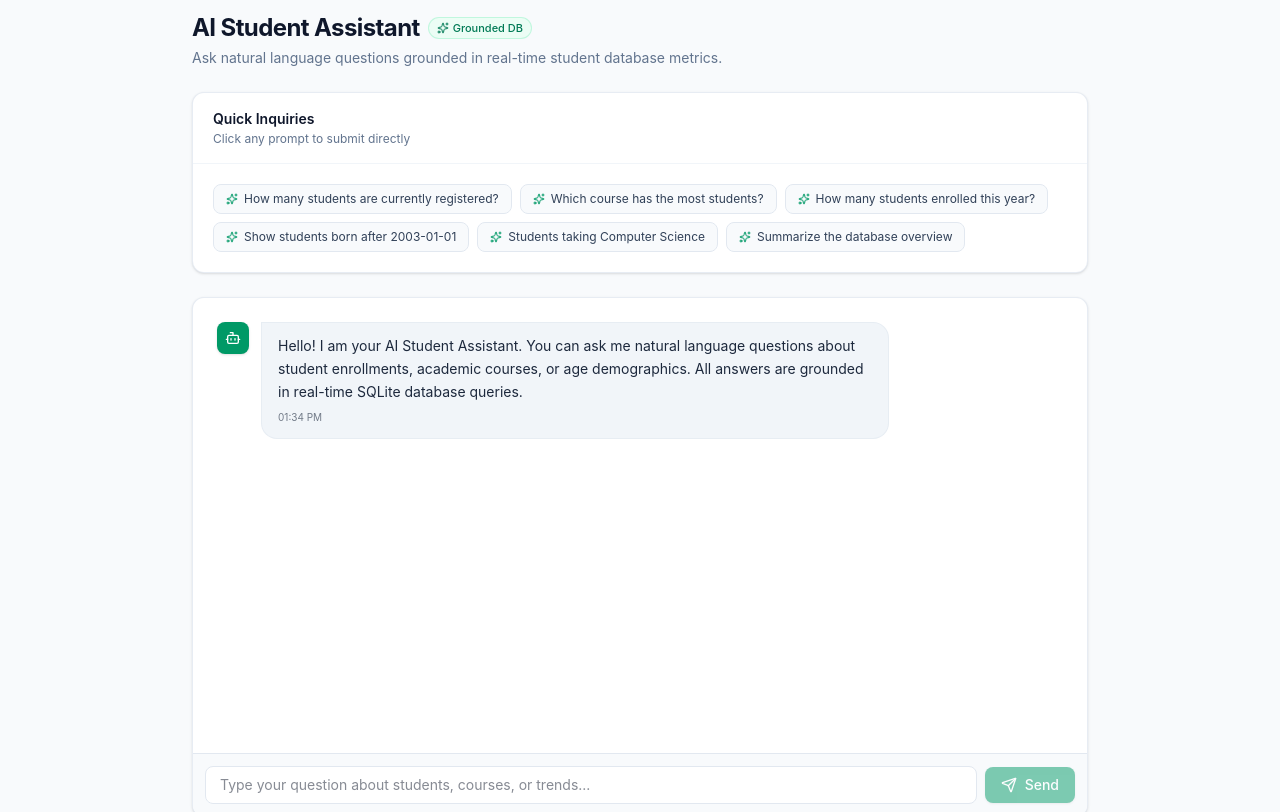
AIAssistantPage › submits query and displays grounded response
The image size is (1280, 812).
Type "How many students?" into the field with placeholder "Type your question about students, courses, or trends...".
click(591, 785); type("How many students?")  # box x1=205 y1=766 x2=977 y2=804
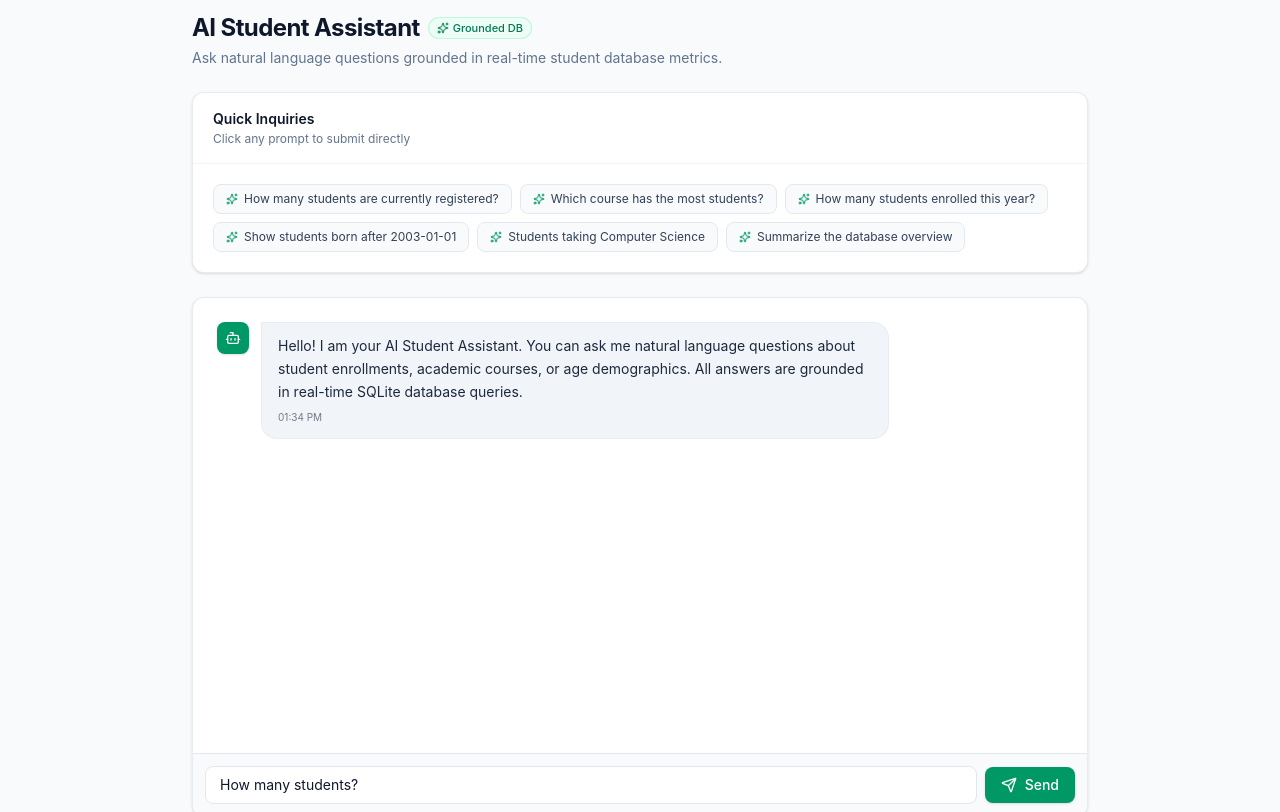
Click the button "Send".
click(1030, 785)  # box x1=985 y1=767 x2=1075 y2=803
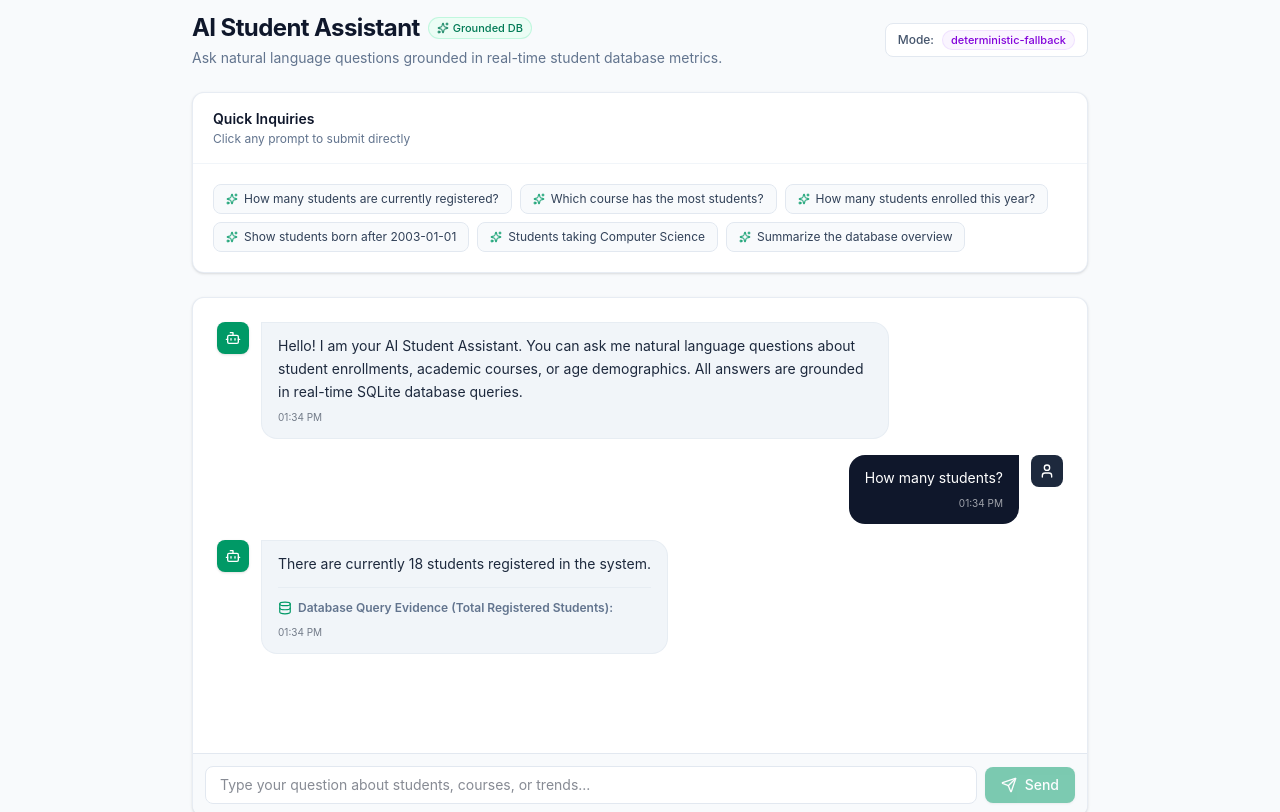
expect the text "There are currently 18 students registered in the system." is shown: met, box x1=278 y1=552 x2=651 y2=575
